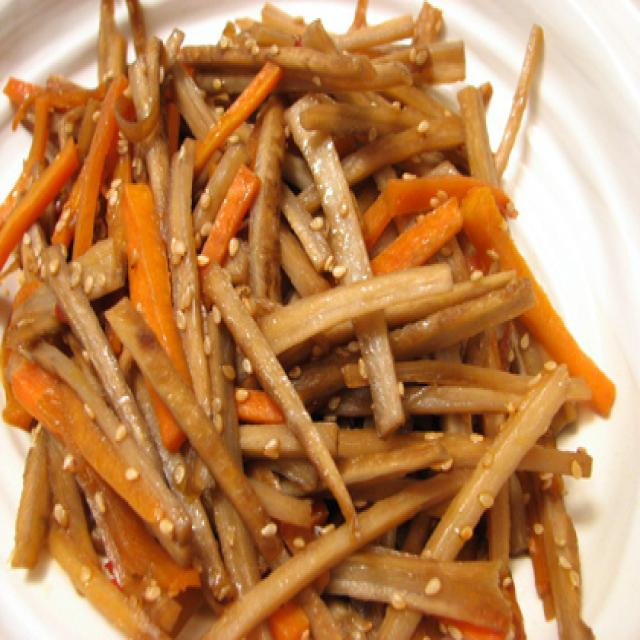蔬菜料理: (0, 2, 622, 640)
